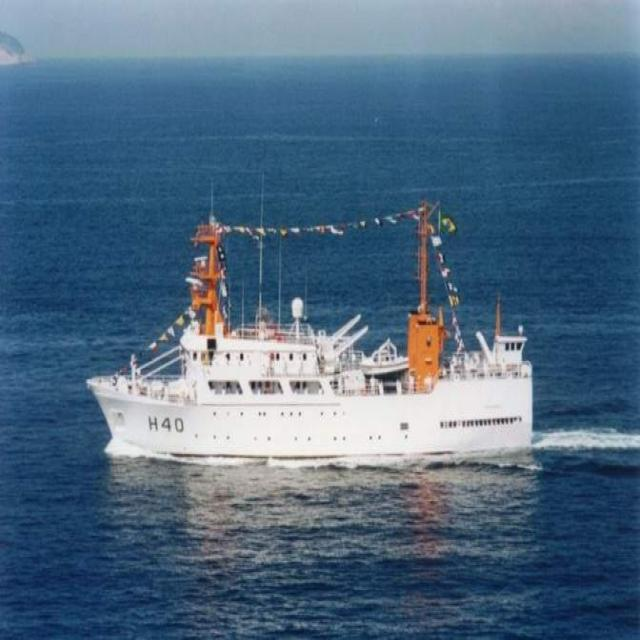Military: (88, 201, 532, 462)
